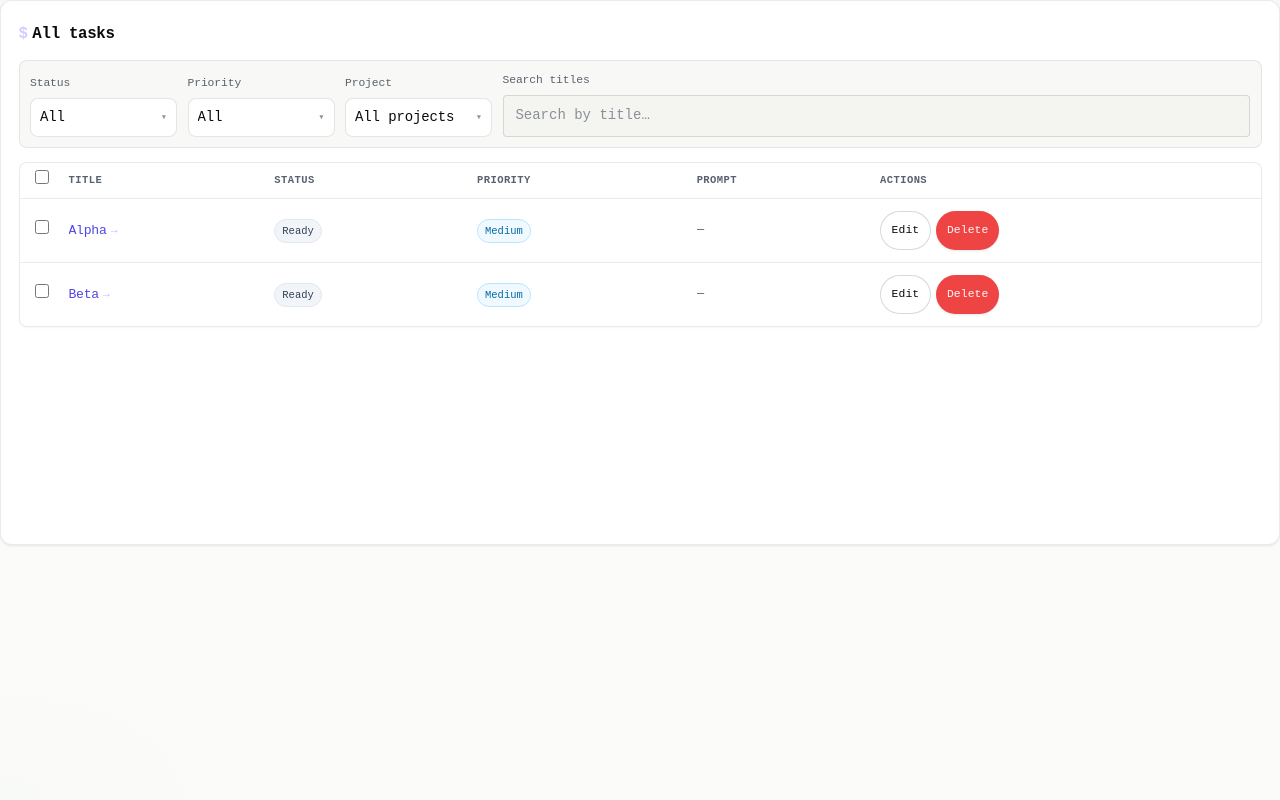
Test: TaskListSection › bulk reschedule › shows the bulk action bar only after at least one row is selected
Click the checkbox with test id "task-list-select-row-a" at (42, 227), box [35,220,49,234]
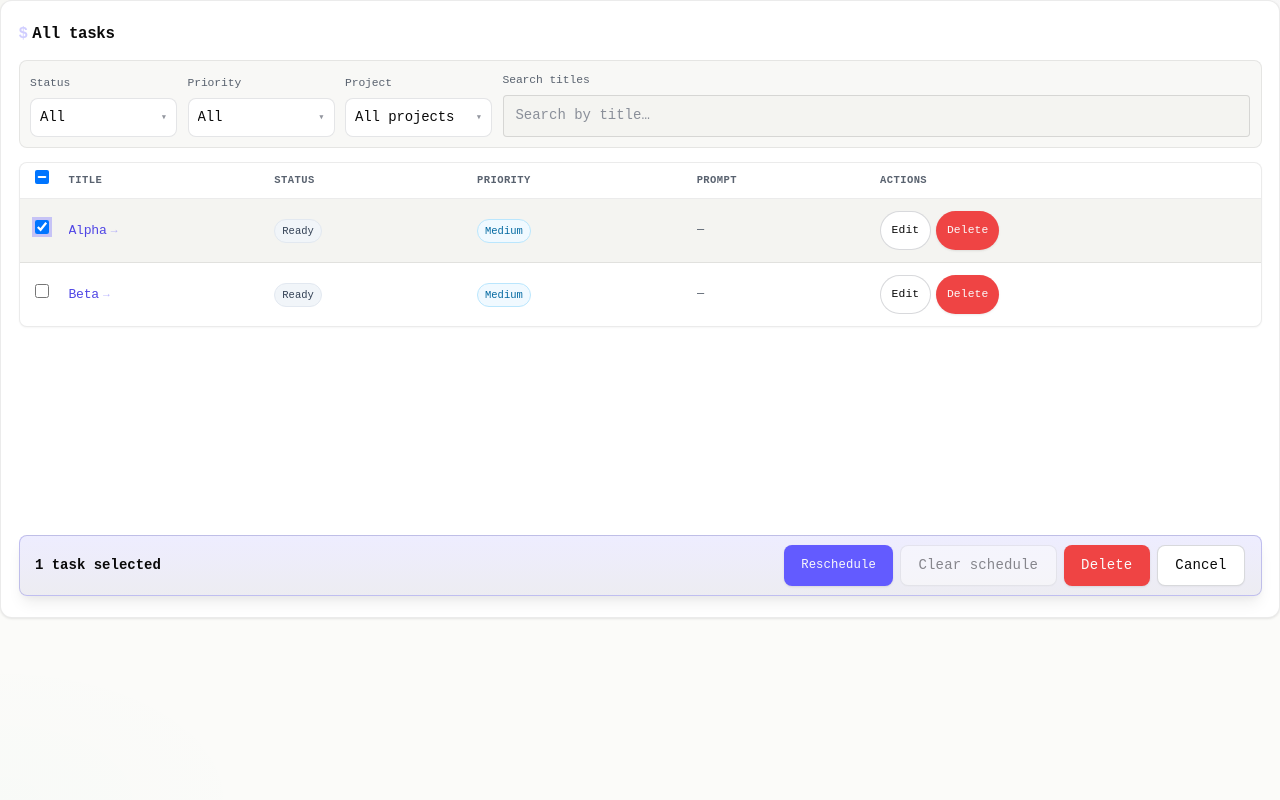
Expected: the element with test id "task-list-bulk-bar" is shown, [18,535,1262,596]
Expected: the text with test id "task-list-bulk-bar-summary" reads "1 task selected", [35,555,161,577]
